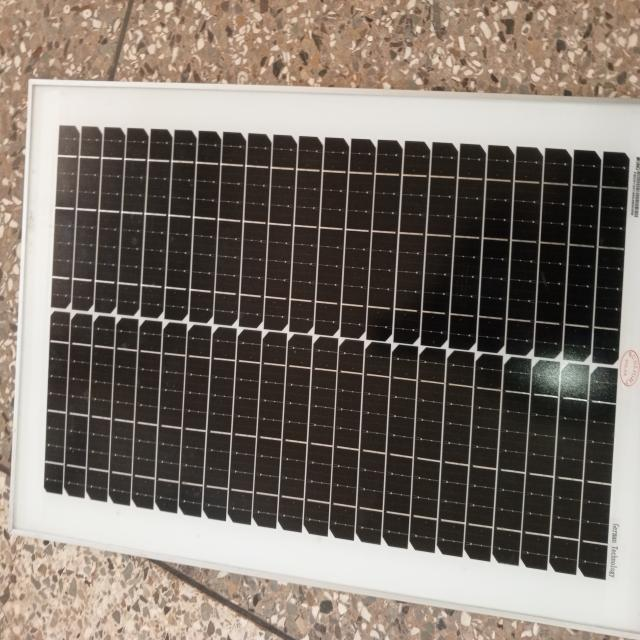Clean: (44, 110, 620, 528)
